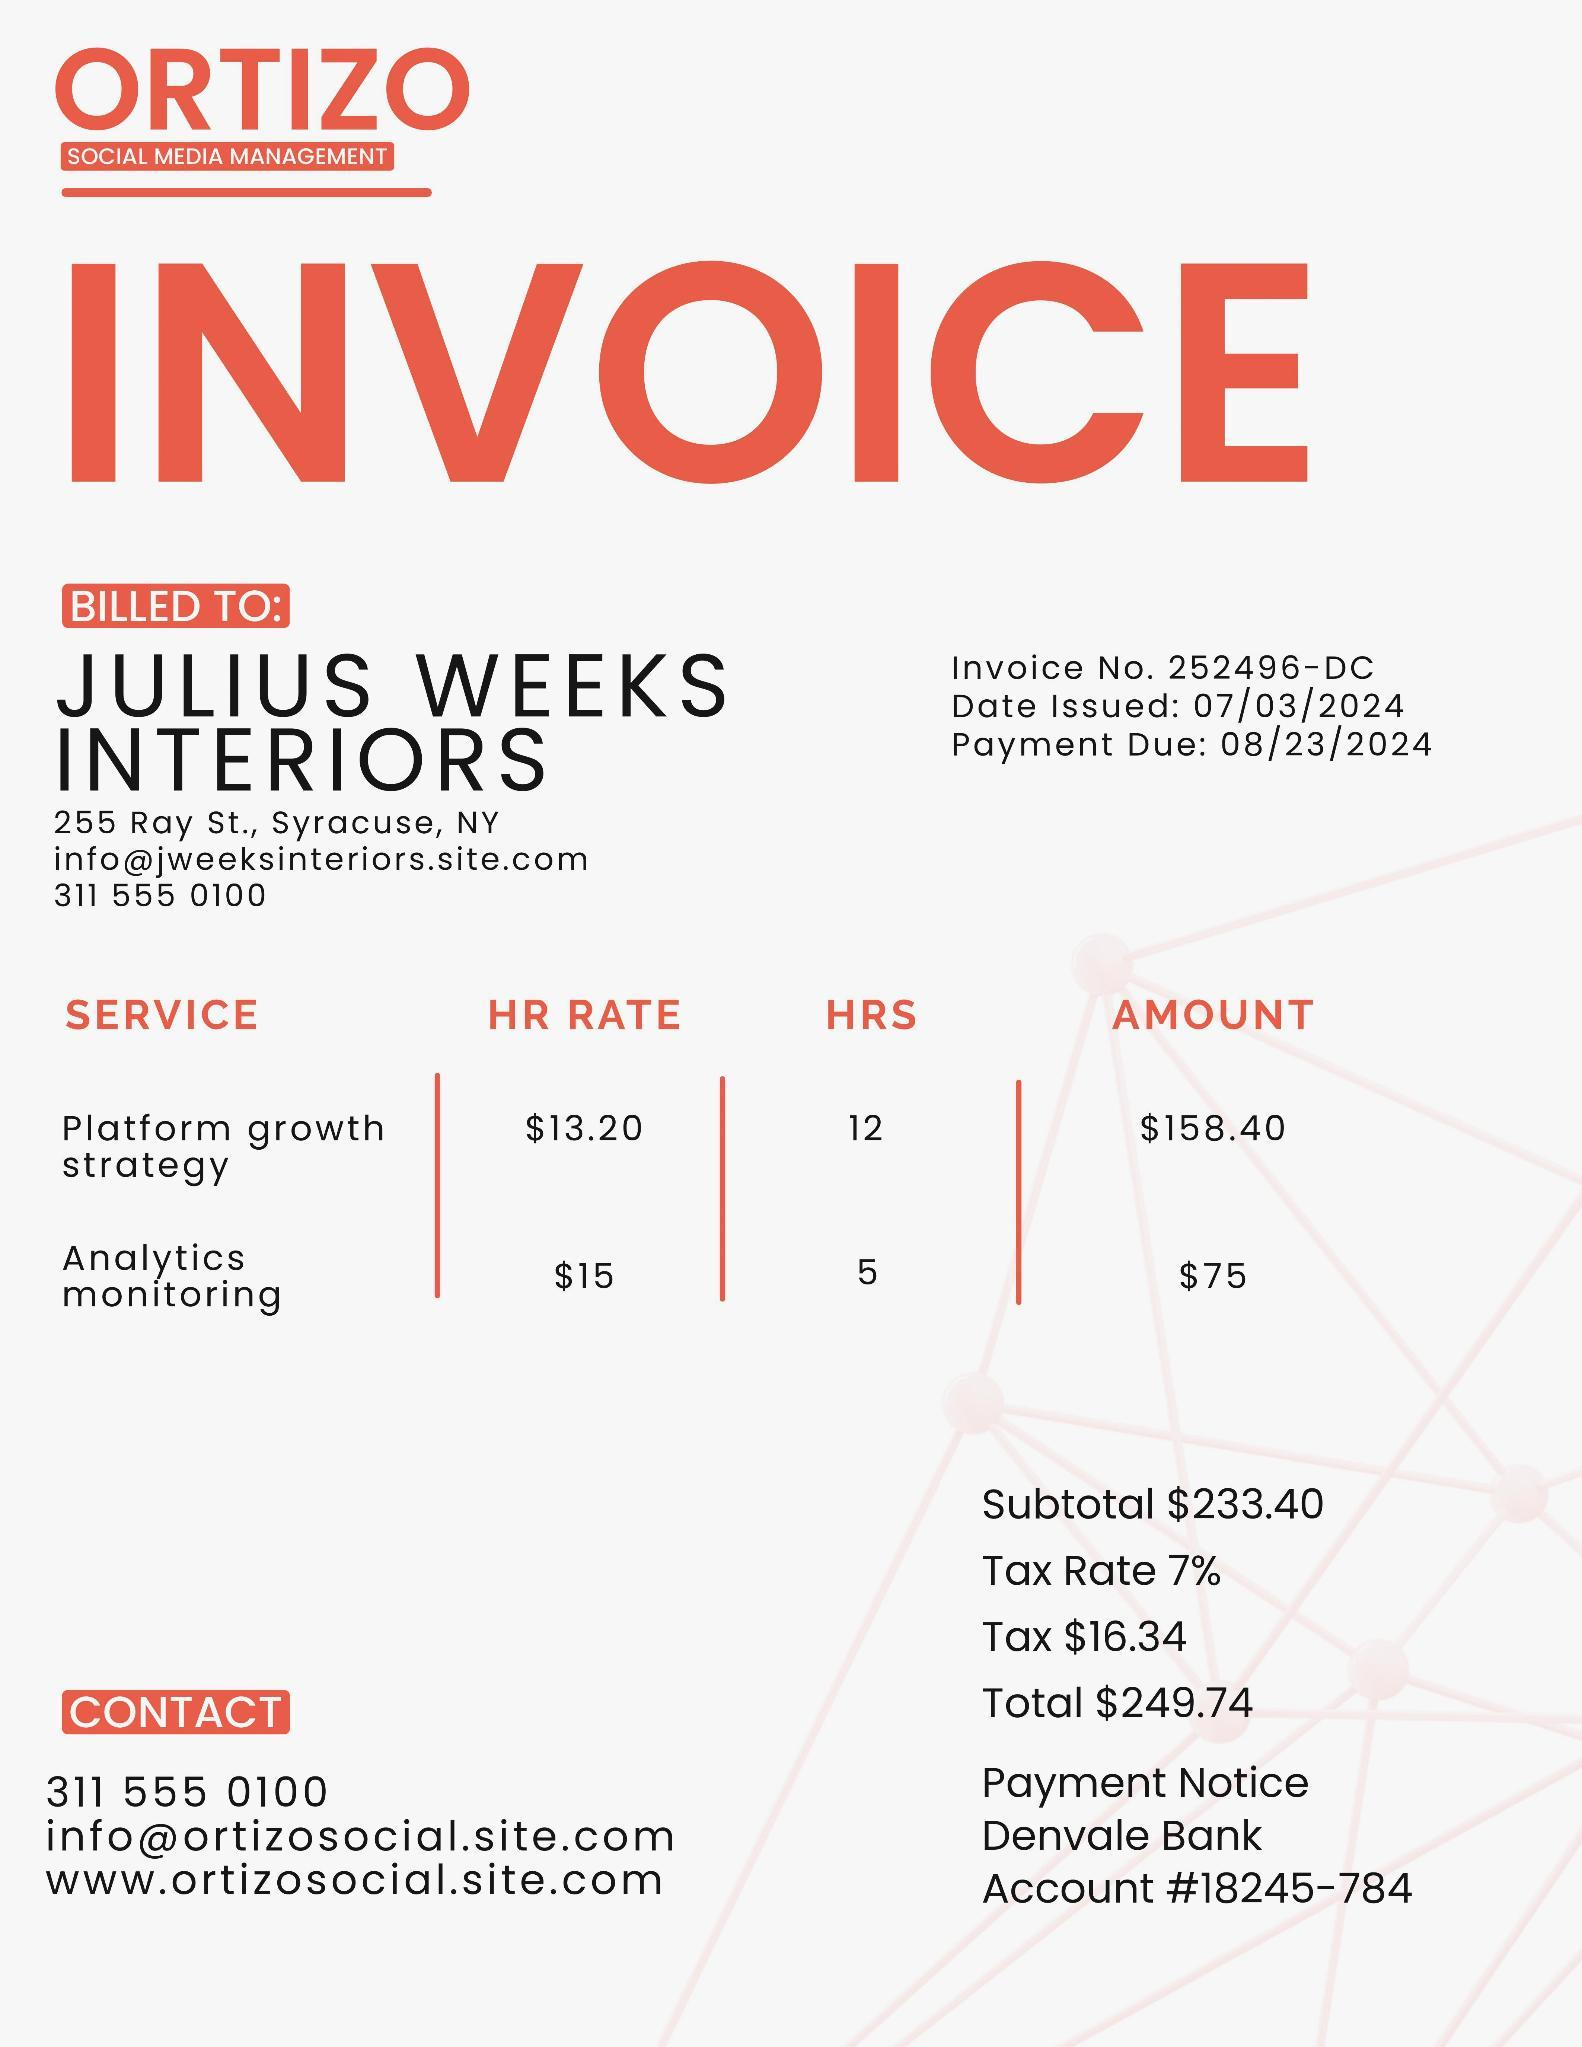ROI: (47, 980, 1359, 1343), (35, 238, 1354, 522), (37, 562, 763, 929), (7, 1667, 701, 1906), (931, 1459, 1348, 1733), (941, 1756, 1431, 1934), (27, 23, 484, 201), (934, 631, 1459, 774)
